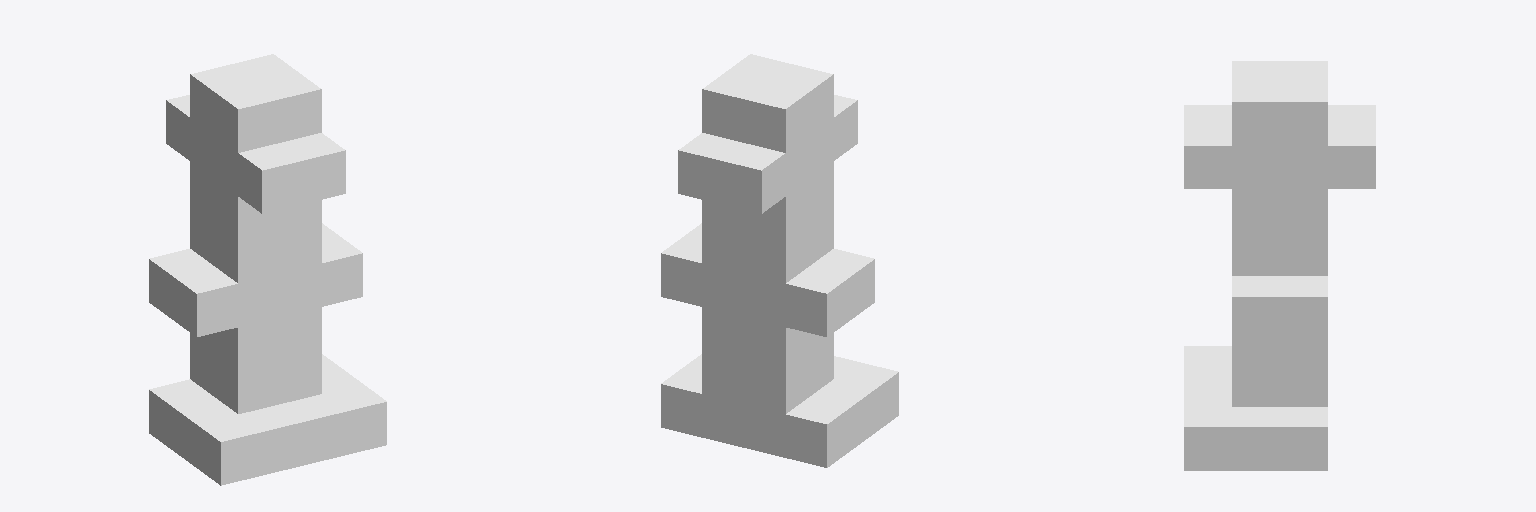
File: mummy_leg.obj
3 renders of one model, left to right at view 1: azimuth 30°, elevation 25°; view 2: azimuth 150°, elevation 25°; view 3: azimuth 270°, elevation 25°, orthographic.
Visible parts, largest first — view 1: object 1; view 2: object 1; view 3: object 1.
Boxes of the visible parts, <box> form: object 1: <box>149,54,386,485</box>; object 1: <box>661,54,898,467</box>; object 1: <box>1184,61,1375,470</box>.
Bounding box in the file's own units: 0.4 × 0.8 × 0.4.